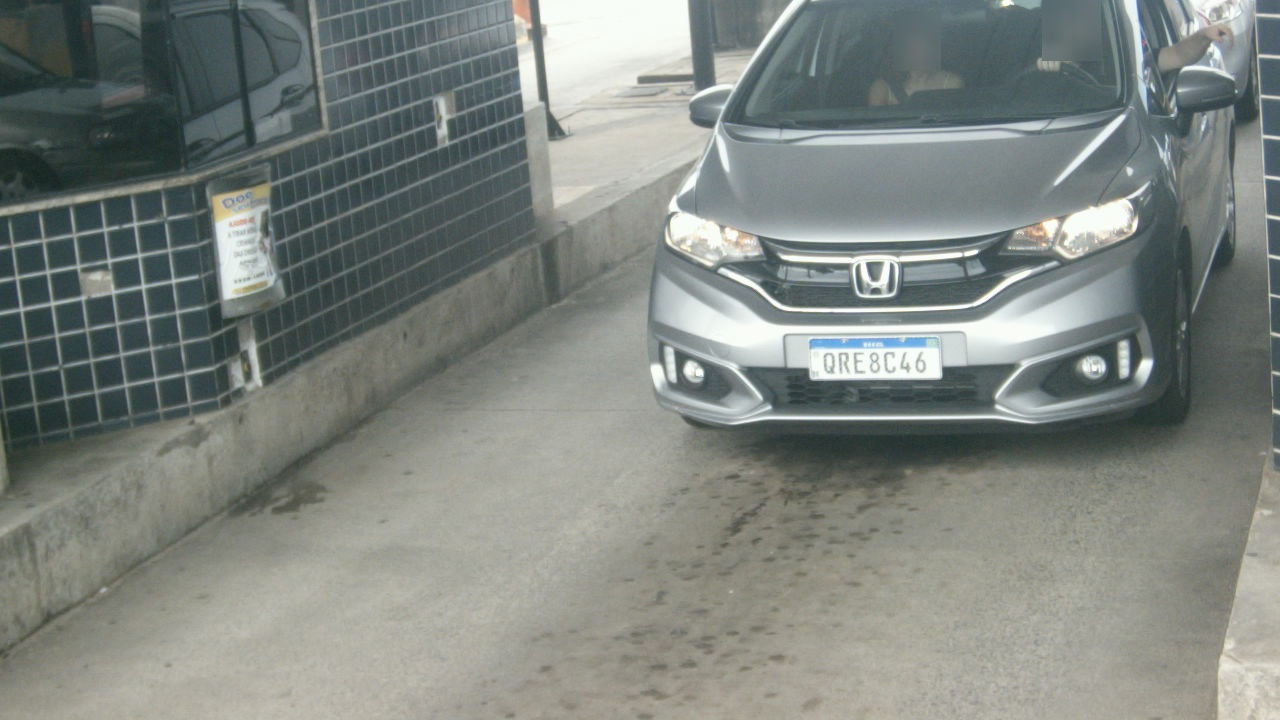placa: (808, 335, 942, 381)
